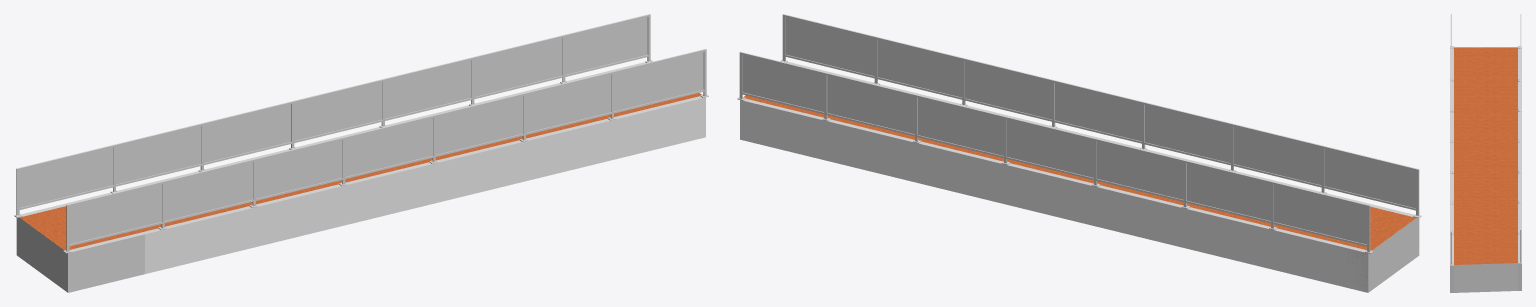
File: imp_2_floor_hall_sized_v5.glb
3 views of the same model, side by side, from view 1: azimuth 30°, elevation 25°; view 2: azimuth 150°, elevation 25°; view 3: azimuth 270°, elevation 25° (orthographic). The views are drawn at different scales.
Visible parts, largest first — view 1: SIMP_COL, NOCOL_Cube_072, NOCOL_Cube_102; view 2: SIMP_COL, NOCOL_Cube_072, NOCOL_Cube_102; view 3: NOCOL_Cube_072, SIMP_COL, NOCOL_Cube_102.
Boxes of the visible parts, x1,y1,x2,y2 form: SIMP_COL: (14,17,706,292); NOCOL_Cube_072: (20,93,705,273); NOCOL_Cube_102: (14,14,708,253); SIMP_COL: (737,14,1420,292); NOCOL_Cube_072: (740,95,1415,292); NOCOL_Cube_102: (738,17,1421,253); NOCOL_Cube_072: (1454,47,1517,264); SIMP_COL: (1450,14,1521,292); NOCOL_Cube_102: (1450,14,1521,265).
Size of what is drawn, in the model's own units: 15.17 by 1.97 by 2.1.
5 materials, 2 textured.
